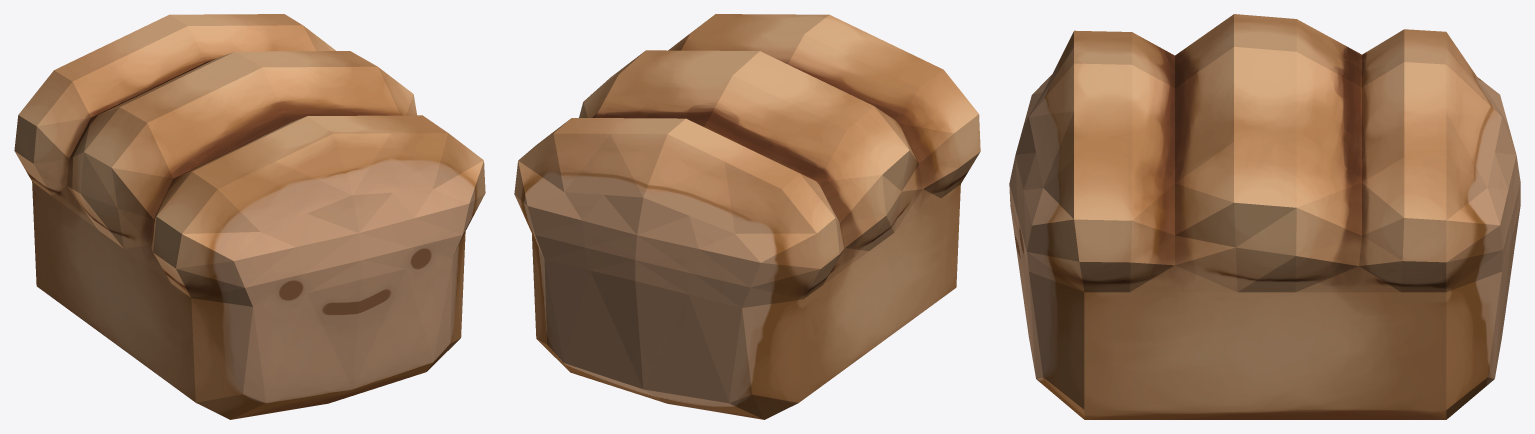
The model's file is bread1.fbx.
3 renders of one model, left to right at view 1: azimuth 30°, elevation 25°; view 2: azimuth 150°, elevation 25°; view 3: azimuth 270°, elevation 25°, orthographic. The views are drawn at different scales.
Visible parts, largest first — view 1: Cube; view 2: Cube; view 3: Cube.
Part boxes in pixels (x1,y1,x2,y2): Cube: (14, 14, 485, 419); Cube: (514, 14, 980, 419); Cube: (1009, 14, 1520, 419).
Size of the model in its own units: 3.14 by 2.8 by 3.96.
